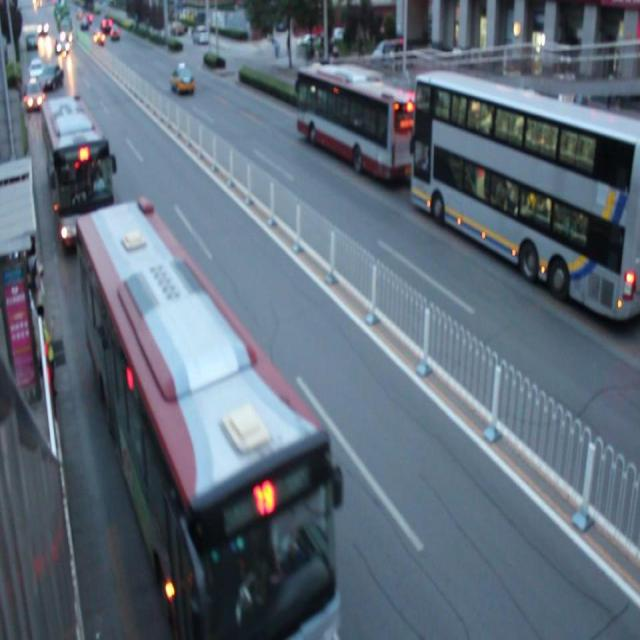car: (169, 64, 194, 96), (24, 81, 45, 110)
van: (76, 212, 333, 640), (412, 73, 640, 323), (295, 68, 417, 181), (40, 96, 114, 245)
